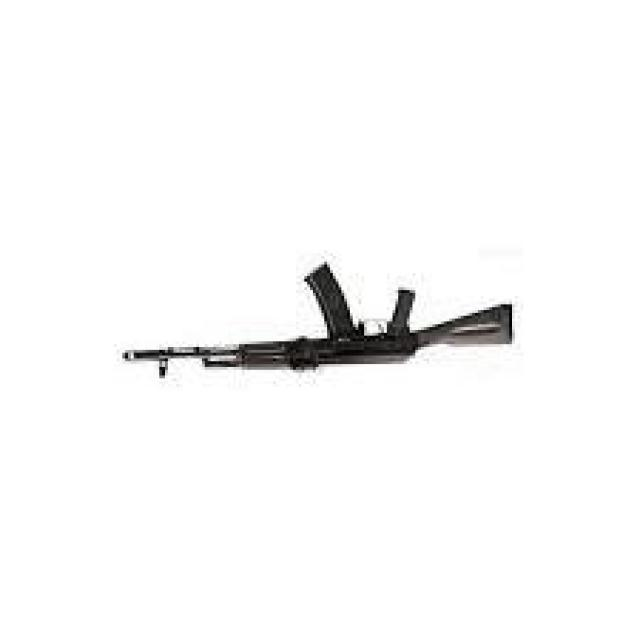weapon: (120, 260, 517, 380)
